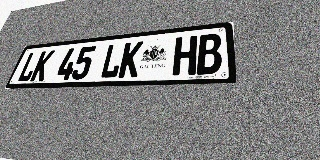4: (55, 47, 81, 80)
5: (70, 46, 96, 80)
B: (196, 33, 222, 75)
H: (172, 35, 197, 76)
K: (118, 41, 144, 78), (29, 50, 55, 81)
L: (99, 43, 125, 79), (16, 51, 42, 82)
